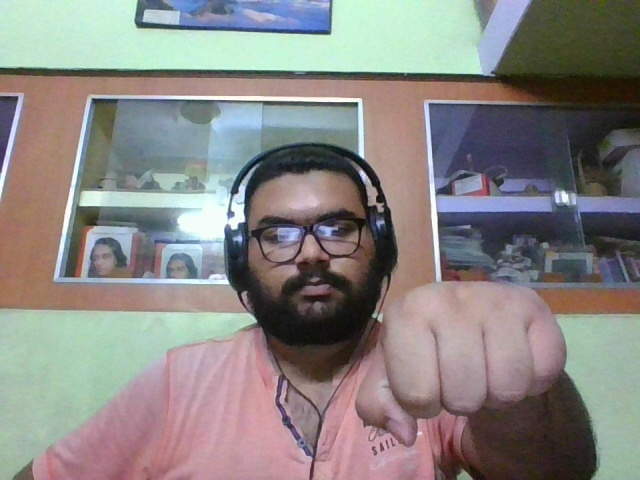yes: (355, 277, 588, 453)
